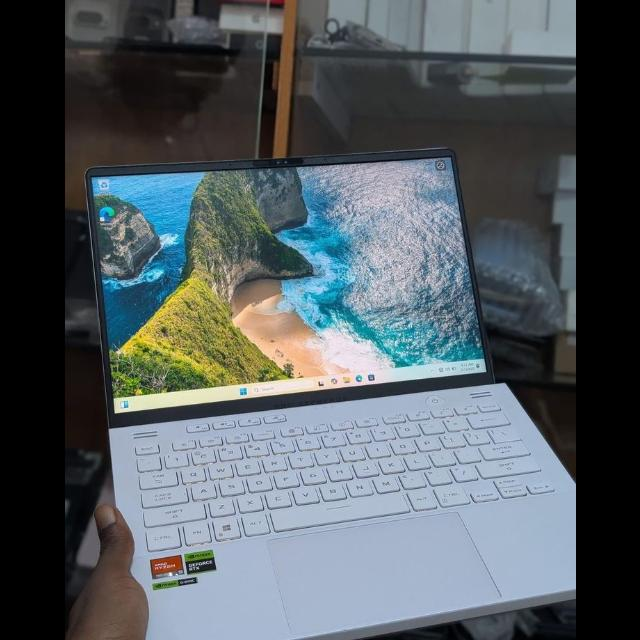laptop: (71, 150, 573, 640)
